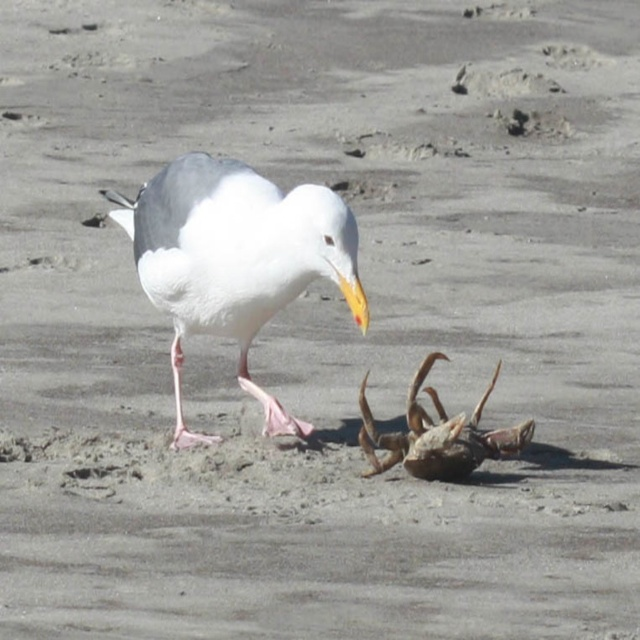Crab: (357, 352, 535, 477)
